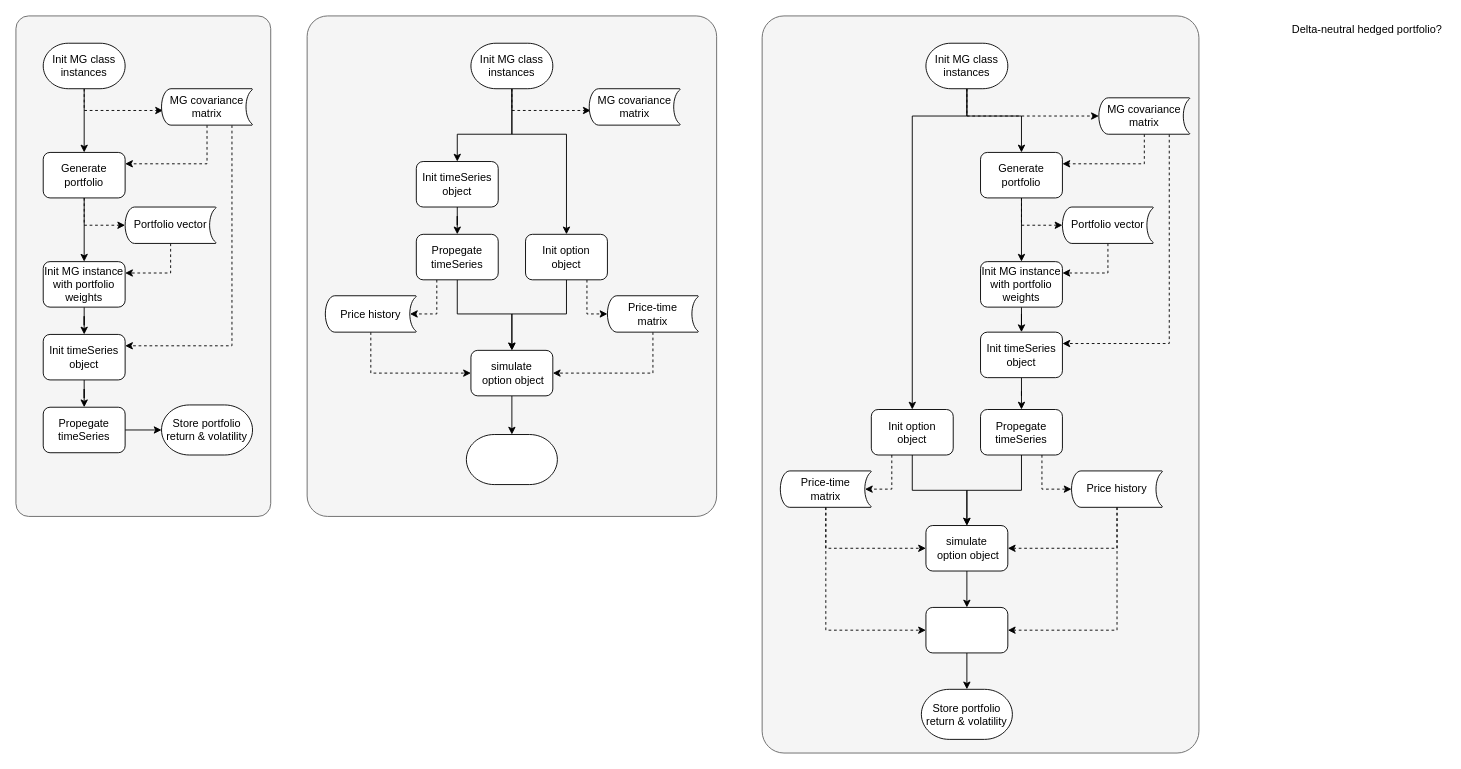
Some shapes in this 1461 by 769 pixel diagram are drawn without their labels. Here are the shapes that lost their labels. From the top down, the box of each, then its label:
(15, 15, 271, 516): Simulate unhedged portfolio
(306, 15, 717, 516): Simulate option pricing
(761, 15, 1199, 753): Simulate hedged portfolio
(465, 434, 557, 485): Store option return & volatility
(925, 607, 1008, 653): Calculate portfolio greeks
